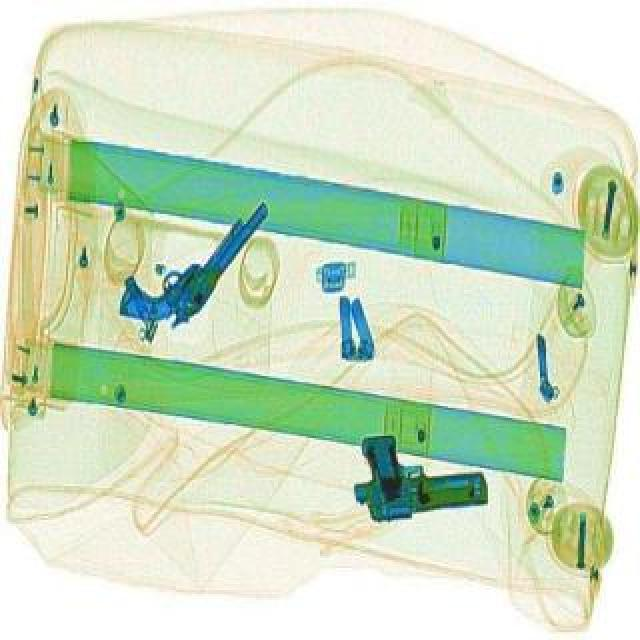gun: (104, 166, 276, 346), (342, 422, 490, 524)
